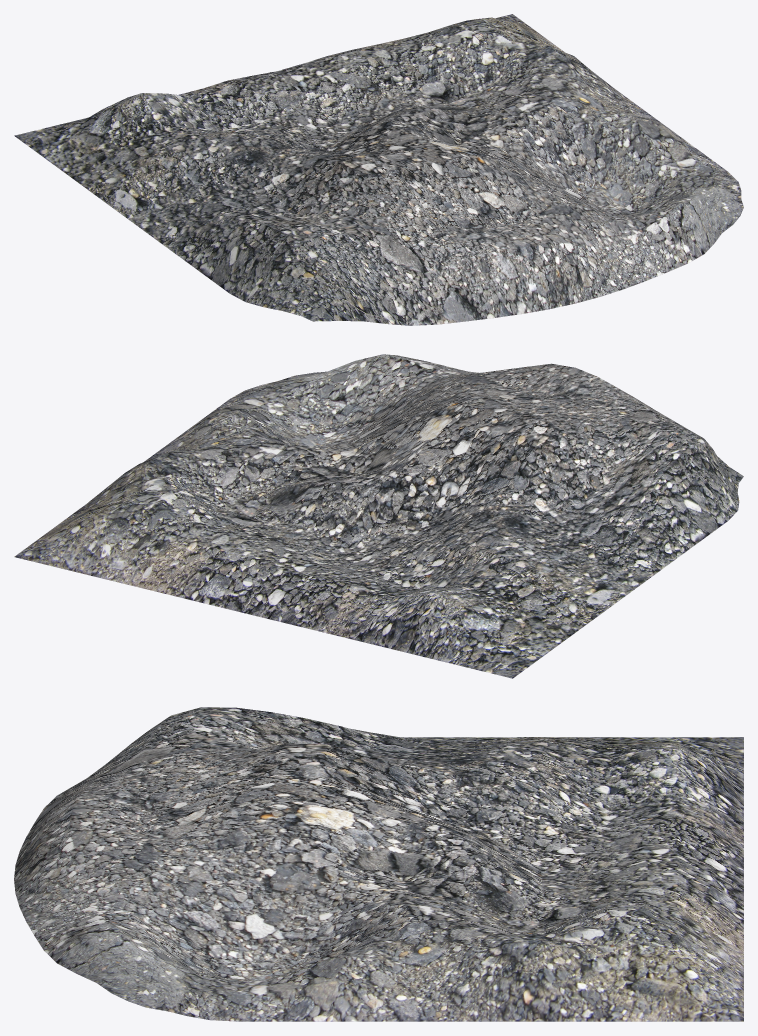
Rendered from debri4.fbx.
3 renders of one model, top to bottom at view 1: azimuth 30°, elevation 25°; view 2: azimuth 150°, elevation 25°; view 3: azimuth 270°, elevation 25°, orthographic. The views are drawn at different scales.
Parts seen in each view (by area): view 1: pPlane4; view 2: pPlane4; view 3: pPlane4.
Part boxes in pixels (x1,y1,x2,y2): pPlane4: [14, 14, 743, 325]; pPlane4: [14, 354, 743, 678]; pPlane4: [14, 707, 743, 1021].
Bounding box in the file's own units: 20 × 3.23 × 21.69.
